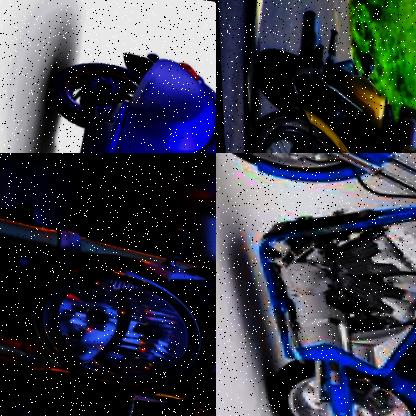bike: (0, 153, 216, 416), (216, 153, 416, 416), (0, 20, 216, 153), (234, 20, 416, 153)
